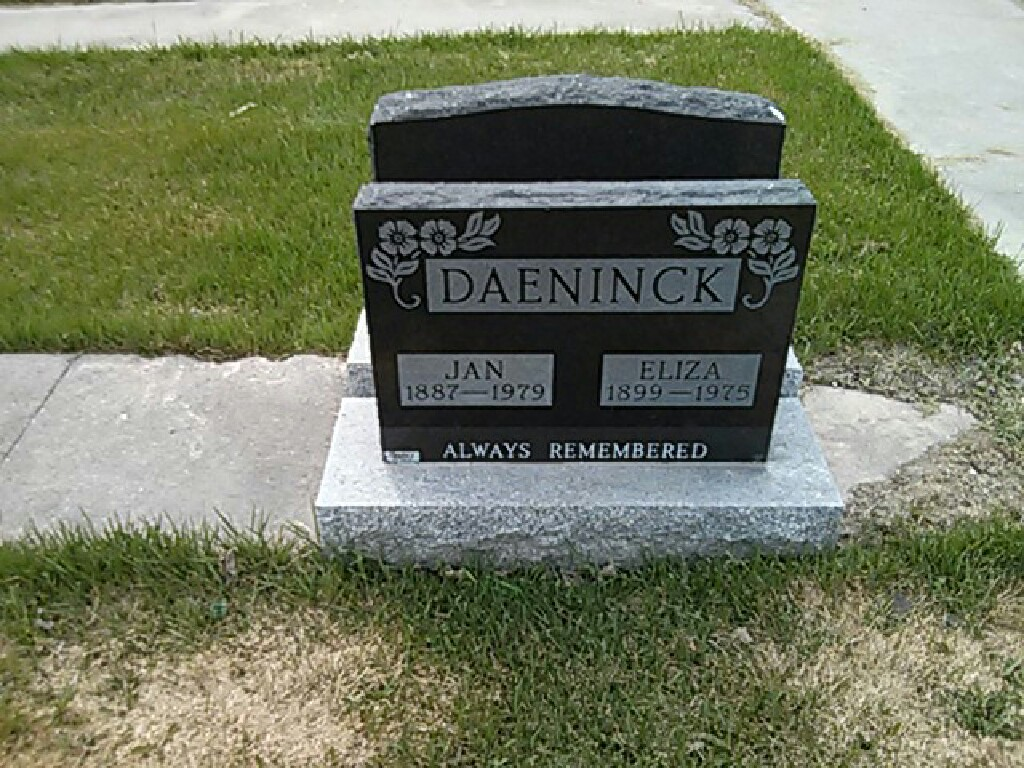upright: (299, 53, 844, 575)
